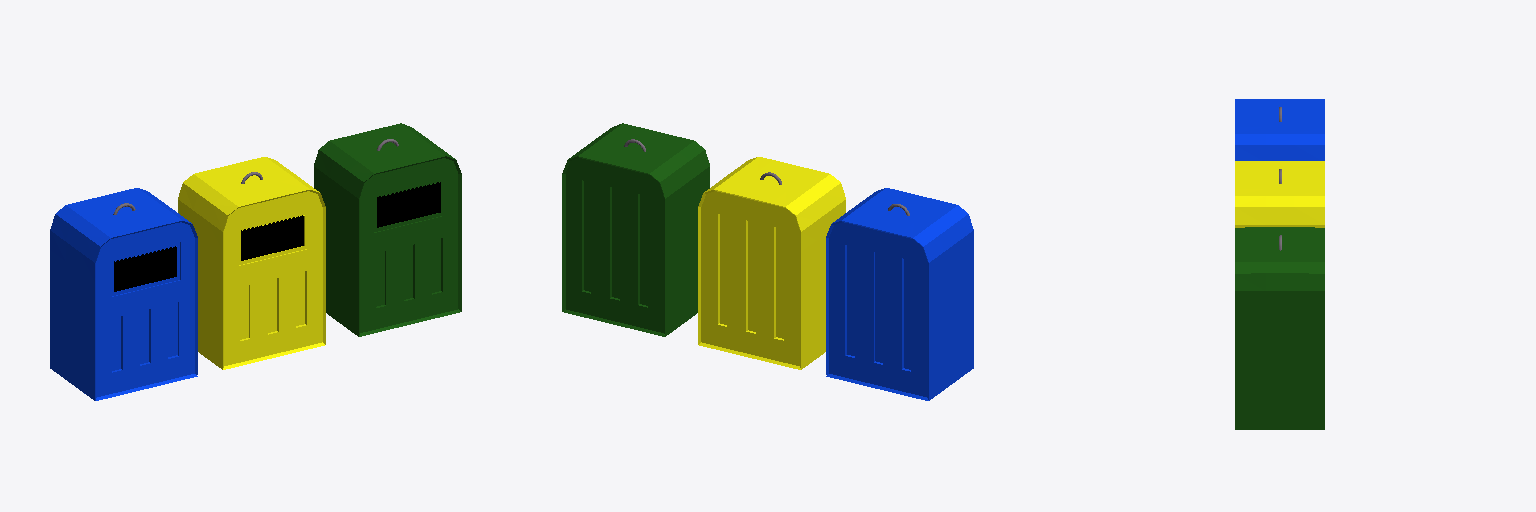
Rendered from Ecopontos.obj.
3 renders of one model, left to right at view 1: azimuth 30°, elevation 25°; view 2: azimuth 150°, elevation 25°; view 3: azimuth 270°, elevation 25°, orthographic.
Parts seen in each view (by area): view 1: Cube.1_2, Cube.1, Cube.1_1, Cube.2, Cube.2_2, Cube.2_1; view 2: Cube.1_2, Cube.1, Cube.1_1; view 3: Cube.1, Cube.1_1, Cube.1_2.
Part boxes in pixels (bbox=[...]): Cube.1_2: bbox=[50, 188, 197, 400]; Cube.1: bbox=[314, 123, 461, 336]; Cube.1_1: bbox=[178, 157, 325, 369]; Cube.2: bbox=[377, 182, 440, 227]; Cube.2_2: bbox=[114, 246, 176, 291]; Cube.2_1: bbox=[241, 215, 303, 260]; Cube.1_2: bbox=[826, 188, 973, 400]; Cube.1: bbox=[562, 123, 709, 336]; Cube.1_1: bbox=[698, 157, 845, 369]; Cube.1: bbox=[1235, 227, 1324, 429]; Cube.1_1: bbox=[1235, 161, 1324, 227]; Cube.1_2: bbox=[1235, 99, 1324, 160].
Bounding box in the file's own units: 743 × 326 × 159.